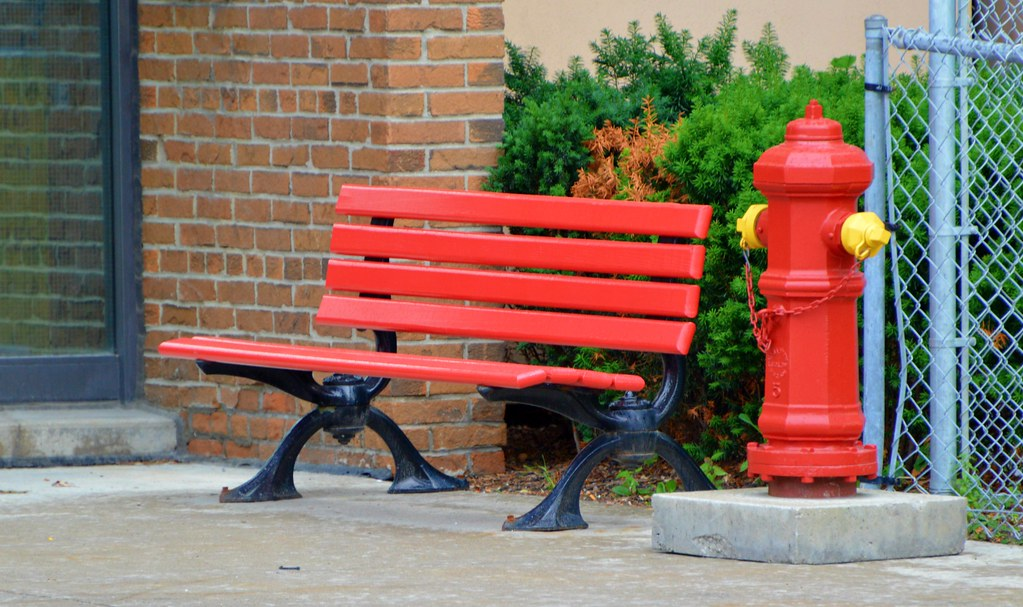bench: (169, 176, 692, 528)
firehdyrant: (741, 105, 890, 501)
